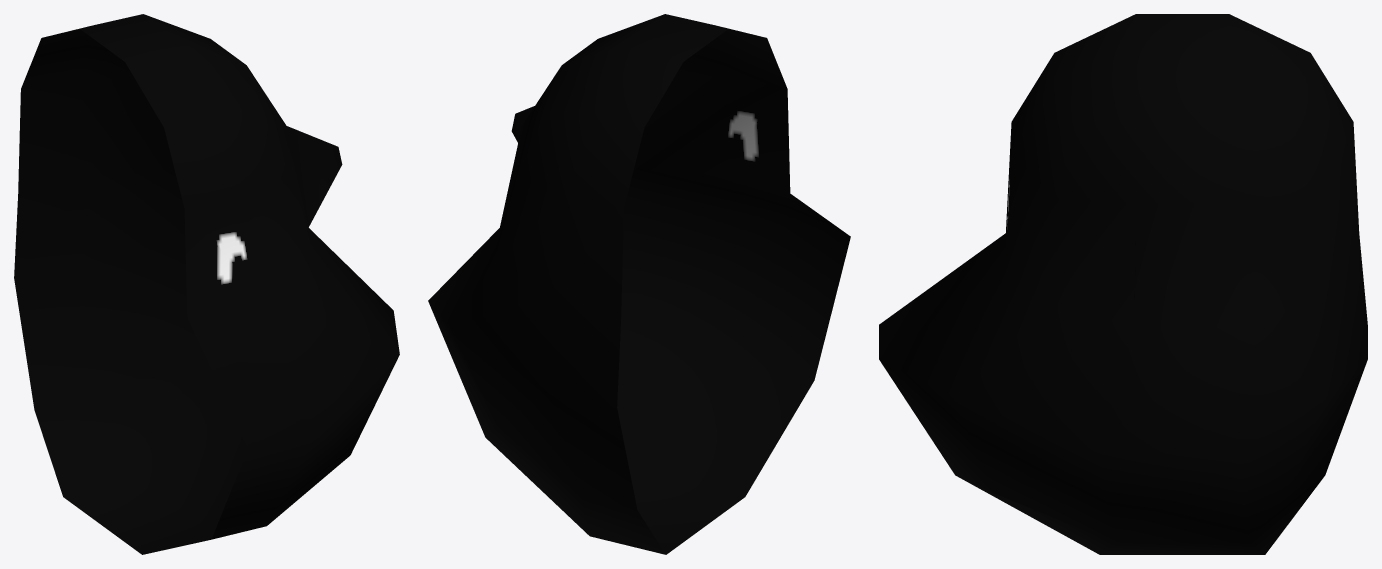
Rendered from testmodel.glb.
The picture shows the model from 3 angles, left to right: view 1: azimuth 30°, elevation 25°; view 2: azimuth 150°, elevation 25°; view 3: azimuth 270°, elevation 25°; orthographic projection. The views are drawn at different scales.
Visible parts, largest first — view 1: Cube; view 2: Cube; view 3: Cube.
Part boxes in pixels (box(x1,y1,x2,y2)): Cube: box(14, 14, 399, 554); Cube: box(428, 14, 850, 554); Cube: box(879, 14, 1367, 554).
Size of the model in its own units: 1.6 by 2.92 by 2.58.
Materials: 1 (1 with a texture image).
